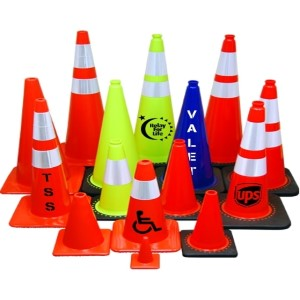traffic cone: (9, 97, 87, 228), (121, 33, 196, 166), (214, 101, 291, 230), (1, 77, 85, 195), (221, 78, 299, 196), (79, 79, 152, 196), (58, 30, 120, 165), (152, 81, 224, 194), (197, 33, 256, 166), (112, 159, 181, 252), (149, 139, 208, 220), (88, 140, 145, 221), (180, 189, 238, 258), (53, 192, 112, 256), (130, 237, 159, 270)
